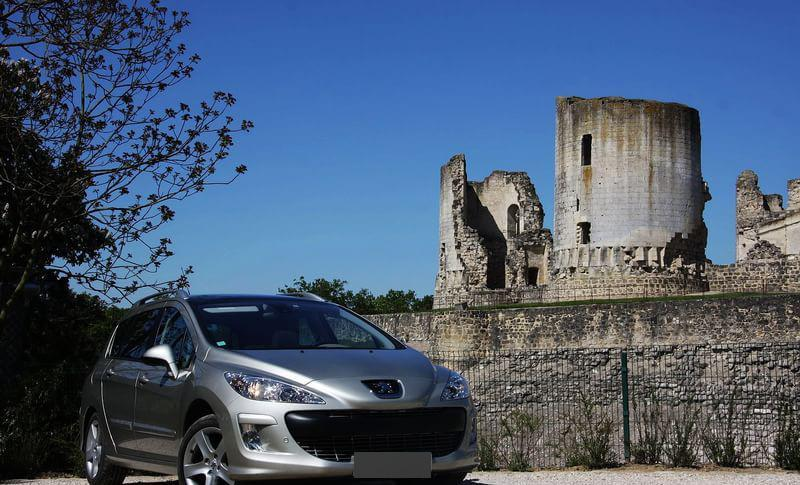Wagon: (79, 288, 482, 485)
